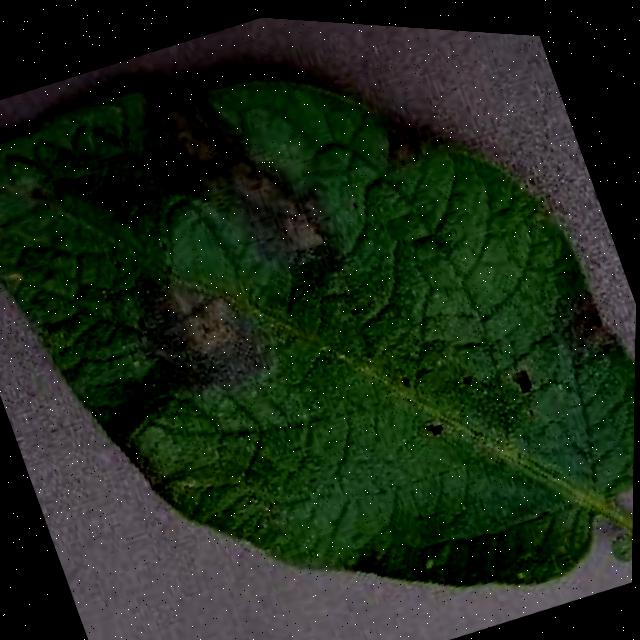Late_blight: (122, 36, 357, 334), (97, 225, 297, 440), (529, 275, 634, 390), (353, 100, 442, 189)
